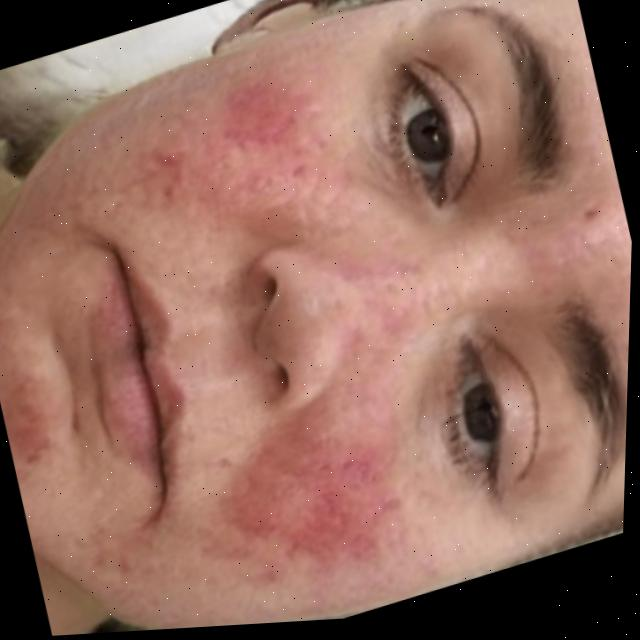Rosacea: (195, 412, 435, 617), (123, 59, 330, 241), (0, 323, 73, 471)
